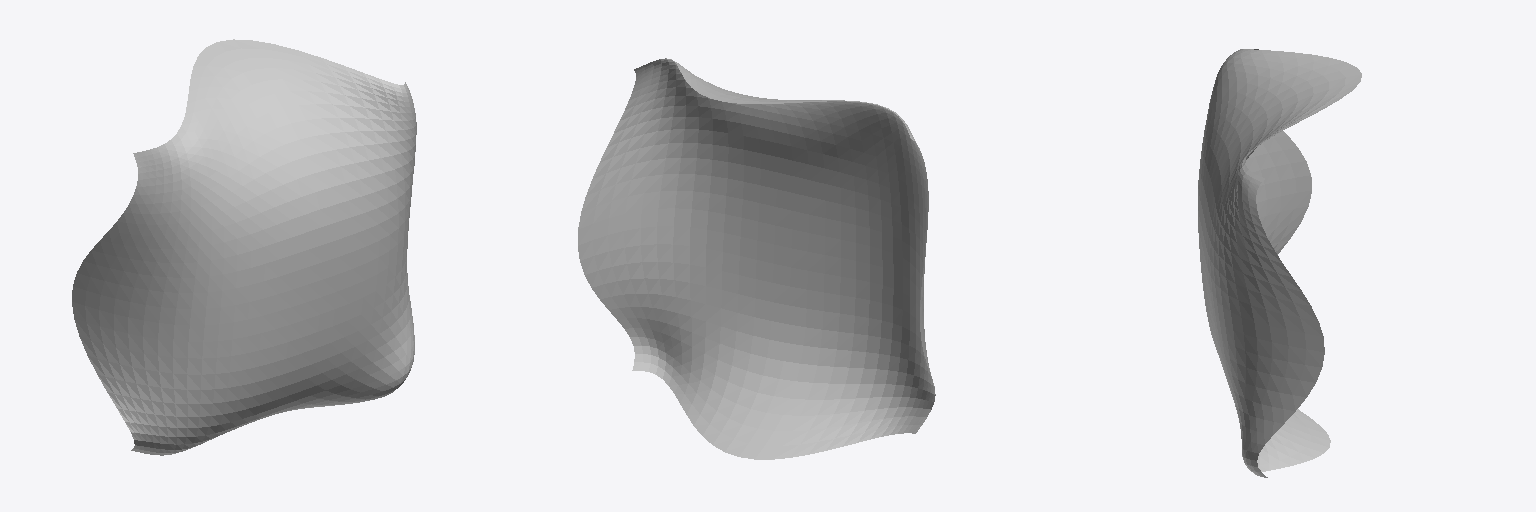
The model's file is Lilium_Qstart.obj.
3 renders of one model, left to right at view 1: azimuth 30°, elevation 25°; view 2: azimuth 150°, elevation 25°; view 3: azimuth 270°, elevation 25°, orthographic.
Parts seen in each view (by area): view 1: [local-path]/hanan/hananLab/QS_project/data/Remeshing/Lilium/Lil; view 2: [local-path]/hanan/hananLab/QS_project/data/Remeshing/Lilium/Lil; view 3: [local-path]/hanan/hananLab/QS_project/data/Remeshing/Lilium/Lil.
Part boxes in pixels (x1,y1,x2,y2): [local-path]/hanan/hananLab/QS_project/data/Remeshing/Lilium/Lil: (72,39,416,455); [local-path]/hanan/hananLab/QS_project/data/Remeshing/Lilium/Lil: (578,58,935,459); [local-path]/hanan/hananLab/QS_project/data/Remeshing/Lilium/Lil: (1198,49,1361,477).
Size of the model in its own units: 2.08 by 2.17 by 0.8818.